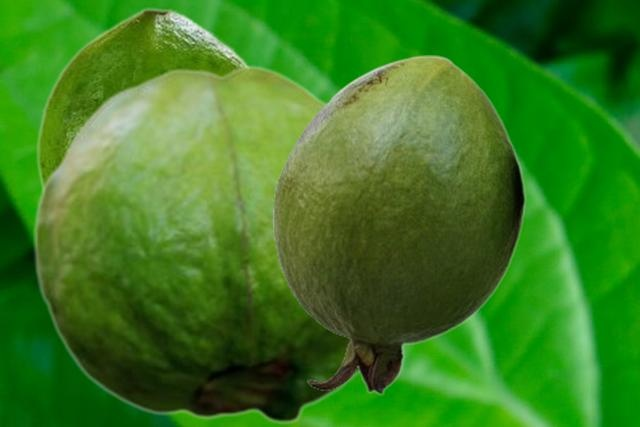guava: (33, 64, 359, 424), (273, 55, 525, 394), (36, 7, 251, 192)
